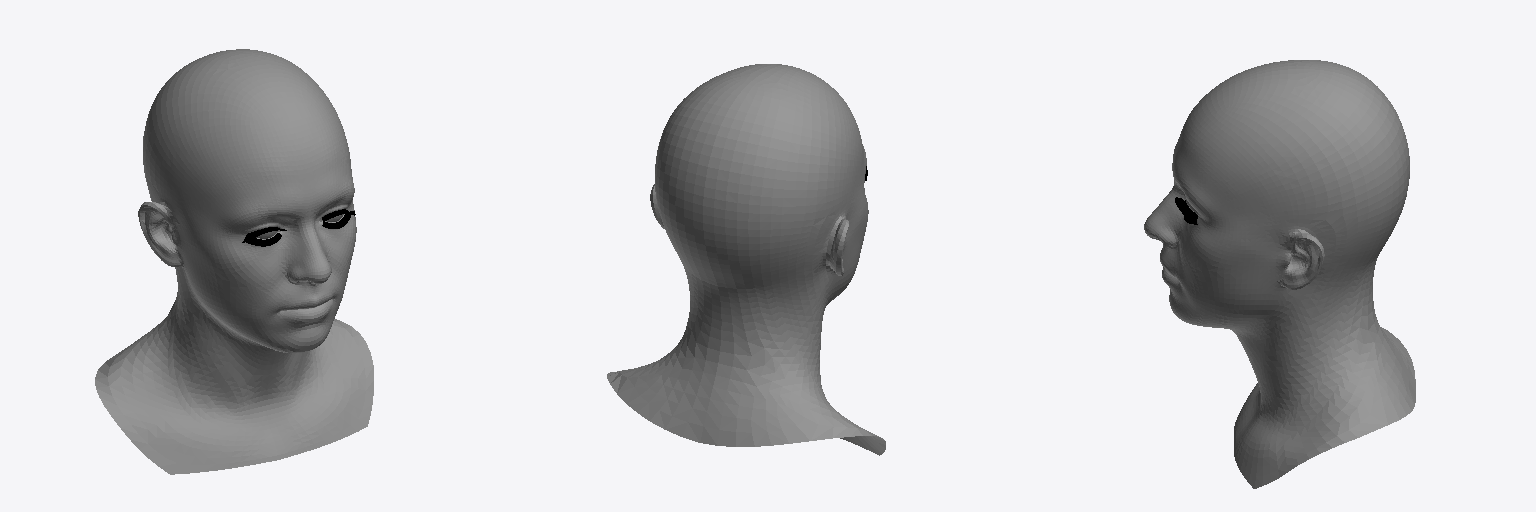
Rendered from identity064.obj.
3 views of the same model, side by side, from view 1: azimuth 30°, elevation 25°; view 2: azimuth 150°, elevation 25°; view 3: azimuth 270°, elevation 25° (orthographic).
Bounding box in the file's own units: 24.79 × 33.82 × 22.27.